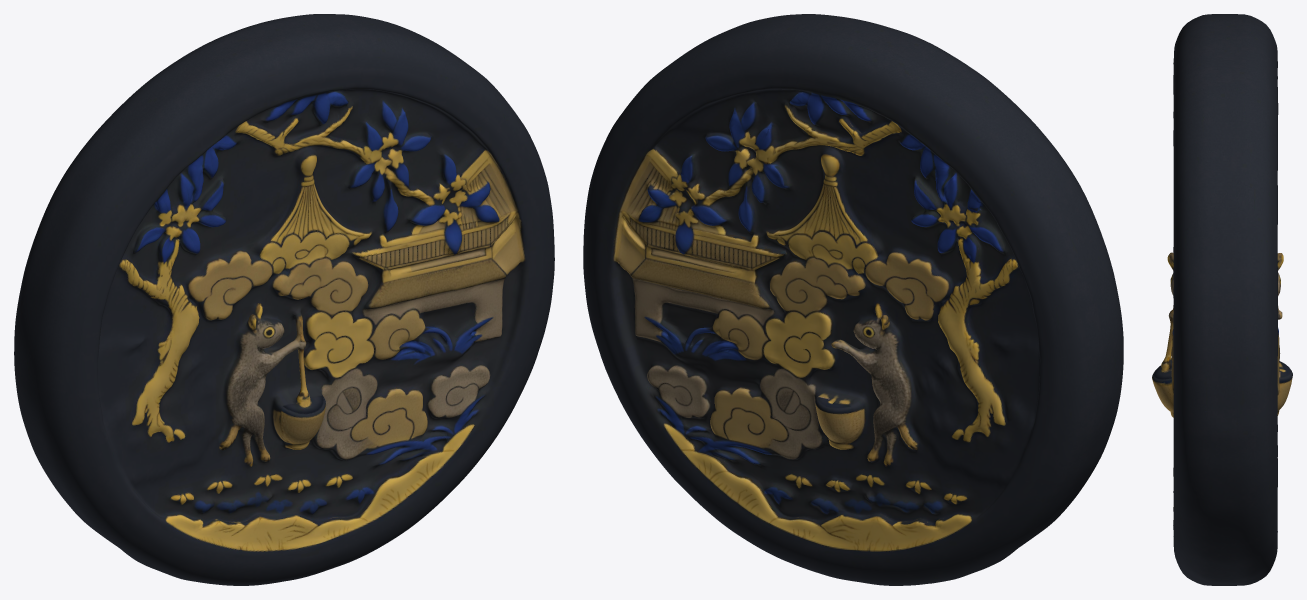
The model's file is 汪斗山款麝香月墨.glb.
The picture shows the model from 3 angles, left to right: view 1: azimuth 30°, elevation 25°; view 2: azimuth 150°, elevation 25°; view 3: azimuth 270°, elevation 25°; orthographic projection. The views are drawn at different scales.
Visible parts, largest first — view 1: tripo_node_ff4459b9; view 2: tripo_node_ff4459b9; view 3: tripo_node_ff4459b9.
Boxes of the visible parts, box(x1,y1,x2,y2) form: tripo_node_ff4459b9: box(14, 14, 554, 585); tripo_node_ff4459b9: box(583, 14, 1123, 585); tripo_node_ff4459b9: box(1152, 14, 1292, 585).
Size of the model in its own units: 98.1 by 97.91 by 24.17.
Materials: 1 (1 with a texture image).
